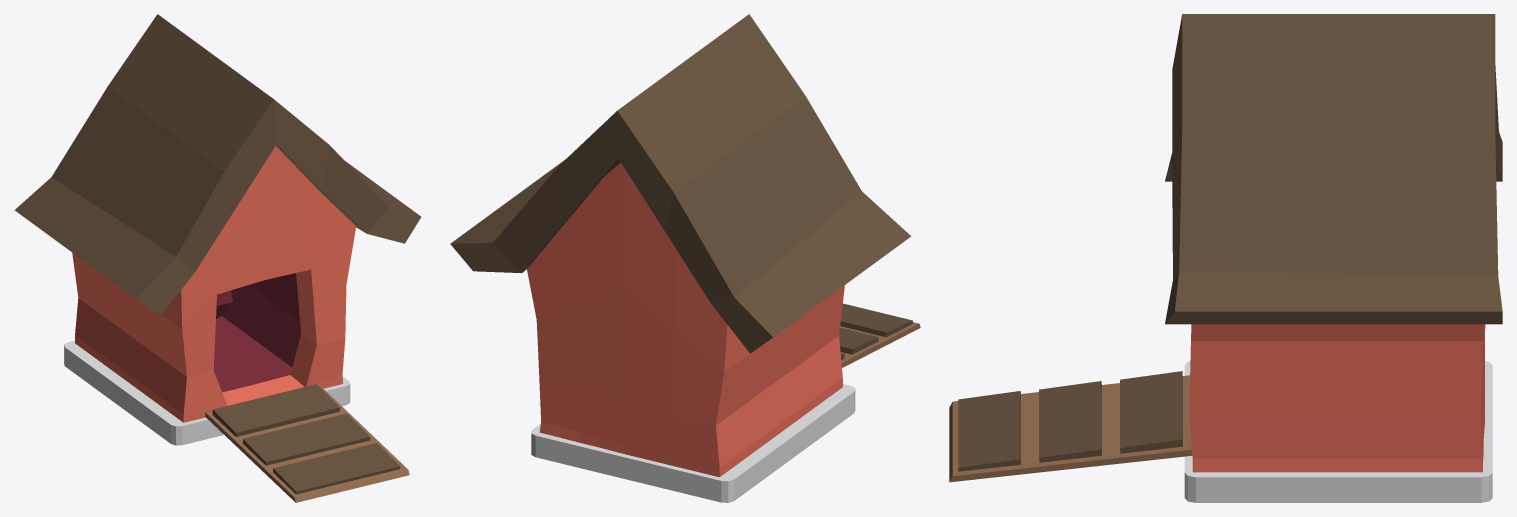
Rendered from SM_Coop.fbx.
3 renders of one model, left to right at view 1: azimuth 30°, elevation 25°; view 2: azimuth 150°, elevation 25°; view 3: azimuth 270°, elevation 25°, orthographic. The views are drawn at different scales.
Visible parts, largest first — view 1: Coop; view 2: Coop; view 3: Coop.
Boxes of the visible parts, <box> form: Coop: <box>14,14,421,502</box>; Coop: <box>450,14,920,502</box>; Coop: <box>949,14,1502,502</box>.
Size of the model in its own units: 114 by 124 by 142.
